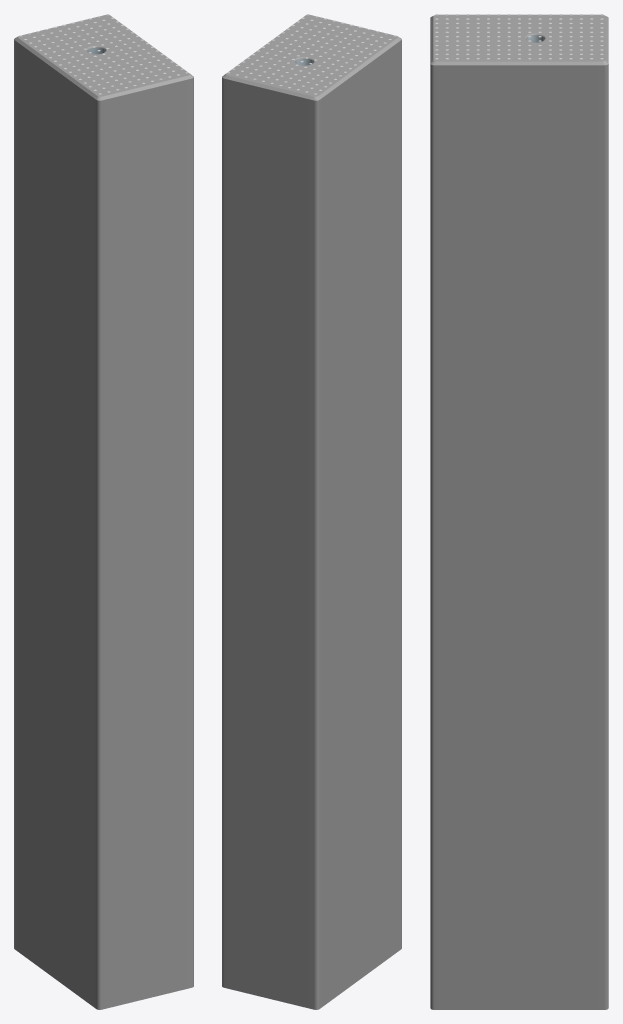
Rendered from Platform (2).fbx.
3 renders of one model, left to right at view 1: azimuth 30°, elevation 25°; view 2: azimuth 150°, elevation 25°; view 3: azimuth 270°, elevation 25°, orthographic. The views are drawn at different scales.
Parts seen in each view (by area): view 1: Platform; view 2: Platform; view 3: Platform.
Part boxes in pixels (box(x1,y1,x2,y2)): Platform: box(14, 15, 193, 1009); Platform: box(222, 15, 401, 1009); Platform: box(430, 14, 608, 1009).
Bounding box in the file's own units: 1122 × 10090 × 1717.
